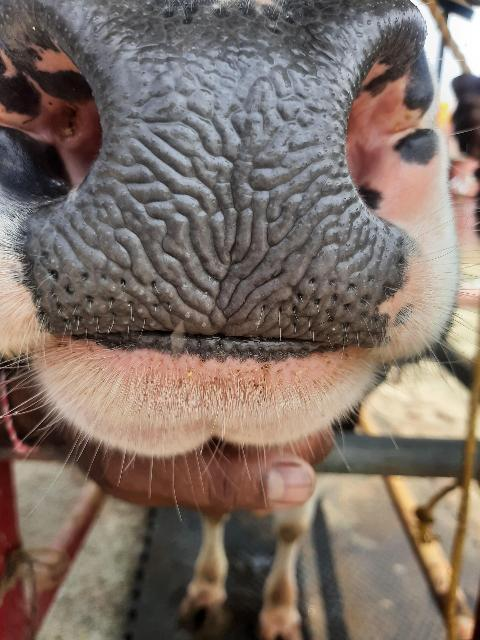Muzzle: (84, 11, 370, 342)
